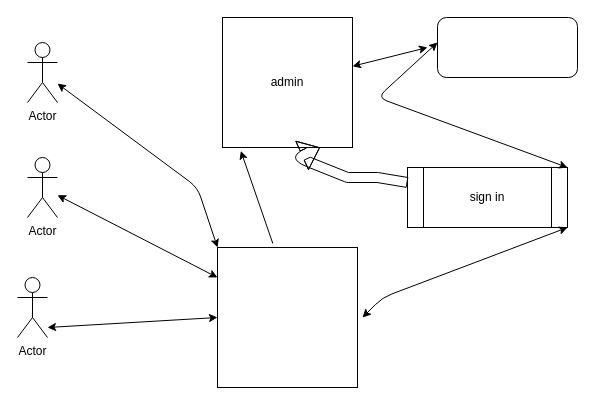
Image size: 595x405. Some labels were removed from this diagram. The shapes that lost their labels are listed below. From the top down, each one's centre as x and y in pixels, then its label:
At (507,47): "employe data admin data".
At (287,317): "employe".
